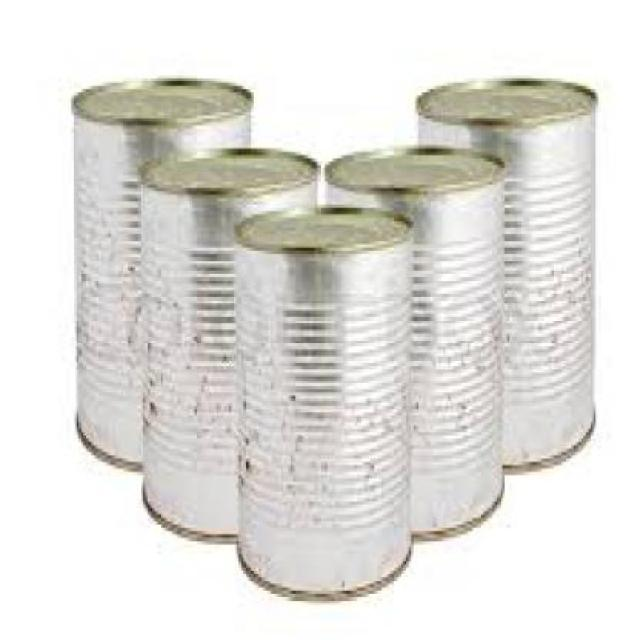METAL: (68, 76, 252, 478), (412, 76, 593, 469), (140, 144, 318, 542), (322, 148, 502, 541), (232, 204, 412, 594)
